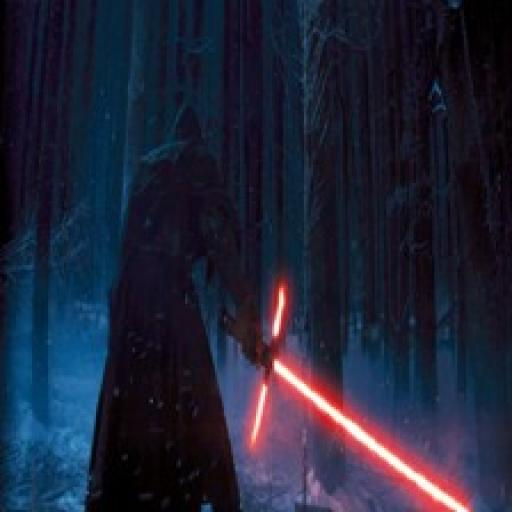human: (77, 95, 270, 512)
sith saber: (216, 279, 478, 512)
